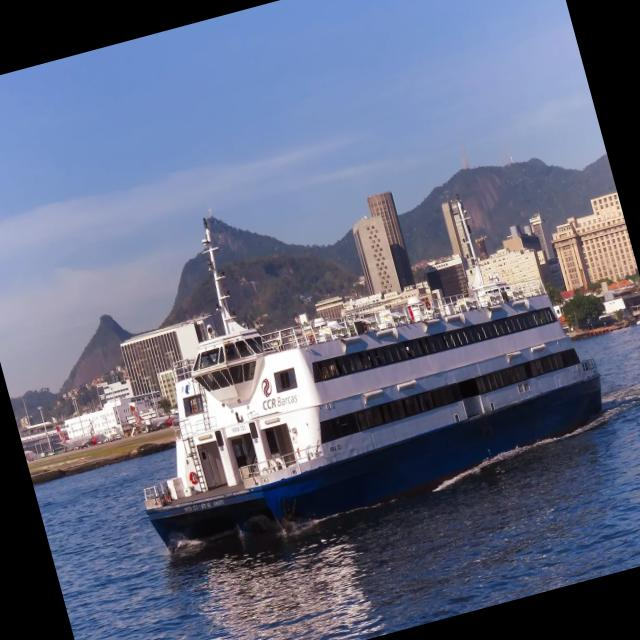Passenger: (144, 197, 601, 549)
